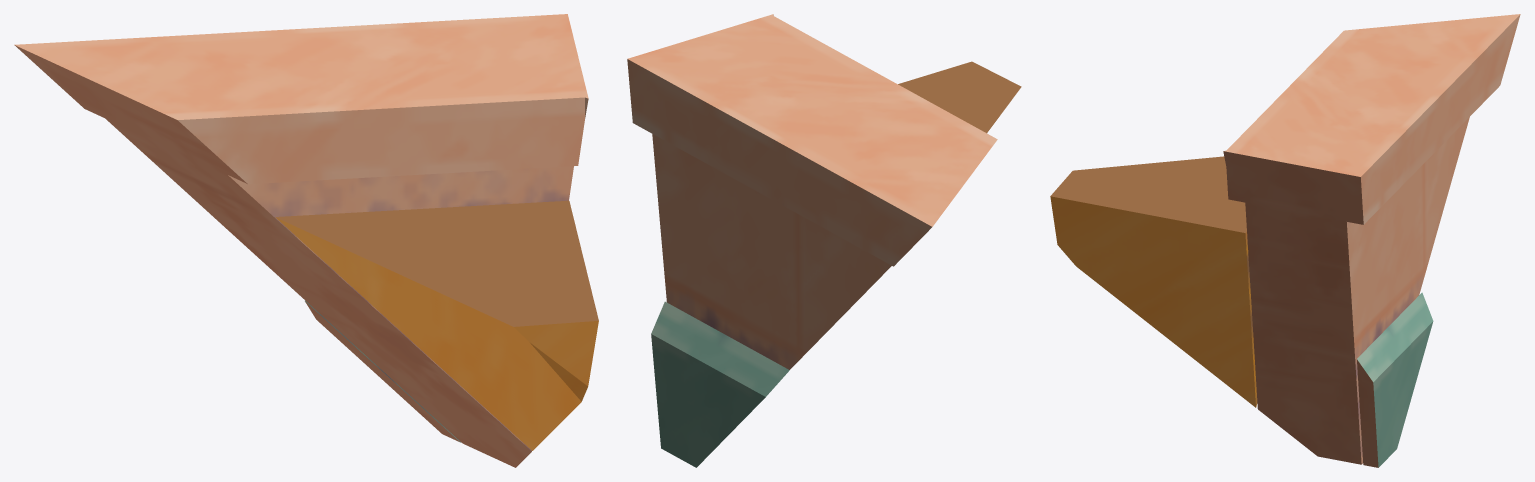
File: vat_saffron_s07.fbx
3 views of the same model, side by side, from view 1: azimuth 30°, elevation 25°; view 2: azimuth 150°, elevation 25°; view 3: azimuth 270°, elevation 25° (orthographic). The views are drawn at different scales.
Visible parts, largest first — view 1: vat_saffron_s07; view 2: vat_saffron_s07; view 3: vat_saffron_s07.
Part boxes in pixels (x1,y1,x2,y2): vat_saffron_s07: (14, 14, 598, 467); vat_saffron_s07: (627, 14, 1021, 467); vat_saffron_s07: (1050, 14, 1520, 467).
Size of the model in its own units: 1.92 by 1.7 by 2.35.
